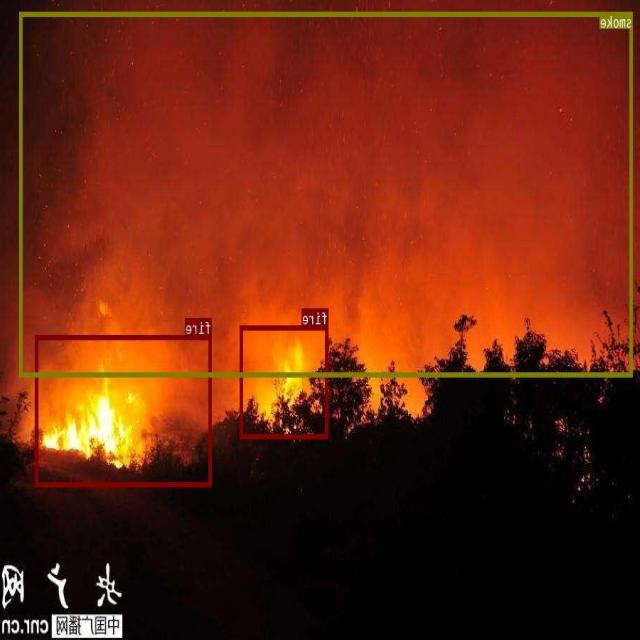fire: (36, 335, 212, 486), (240, 325, 328, 437)
smoke: (21, 11, 634, 376)
